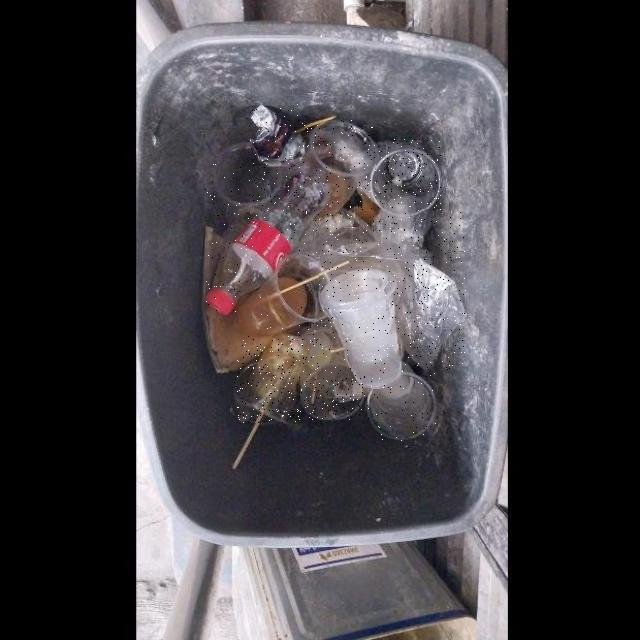plastic: (320, 209, 466, 370), (206, 163, 332, 314), (320, 267, 405, 388), (236, 253, 327, 335), (306, 120, 376, 218), (237, 331, 310, 423), (299, 323, 366, 420), (371, 139, 441, 216), (367, 364, 436, 440)
wrapper: (250, 104, 306, 166)
